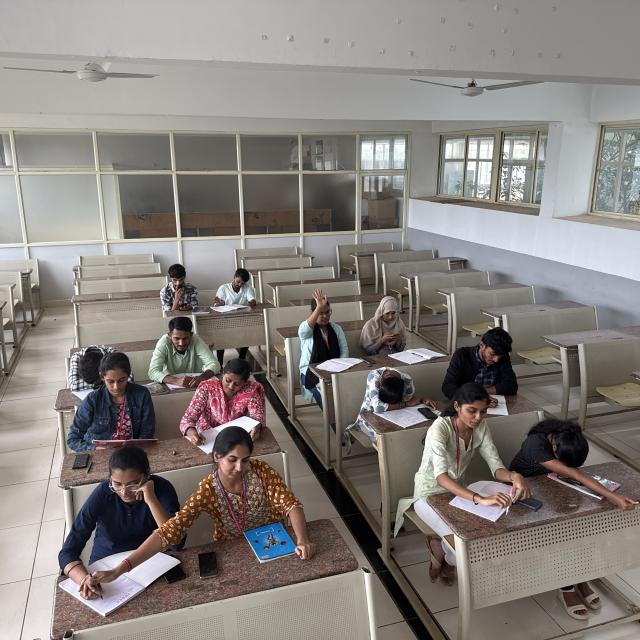Hand Rising: (295, 286, 351, 372)
Reading: (65, 352, 164, 459), (147, 317, 220, 386), (212, 262, 258, 316)
Sleeping: (514, 412, 604, 481), (351, 363, 429, 419), (63, 346, 108, 396)
Using Phone: (358, 291, 412, 355), (156, 261, 202, 315)
Writing: (57, 442, 178, 604), (421, 385, 516, 511), (180, 360, 268, 451), (450, 328, 516, 410)
